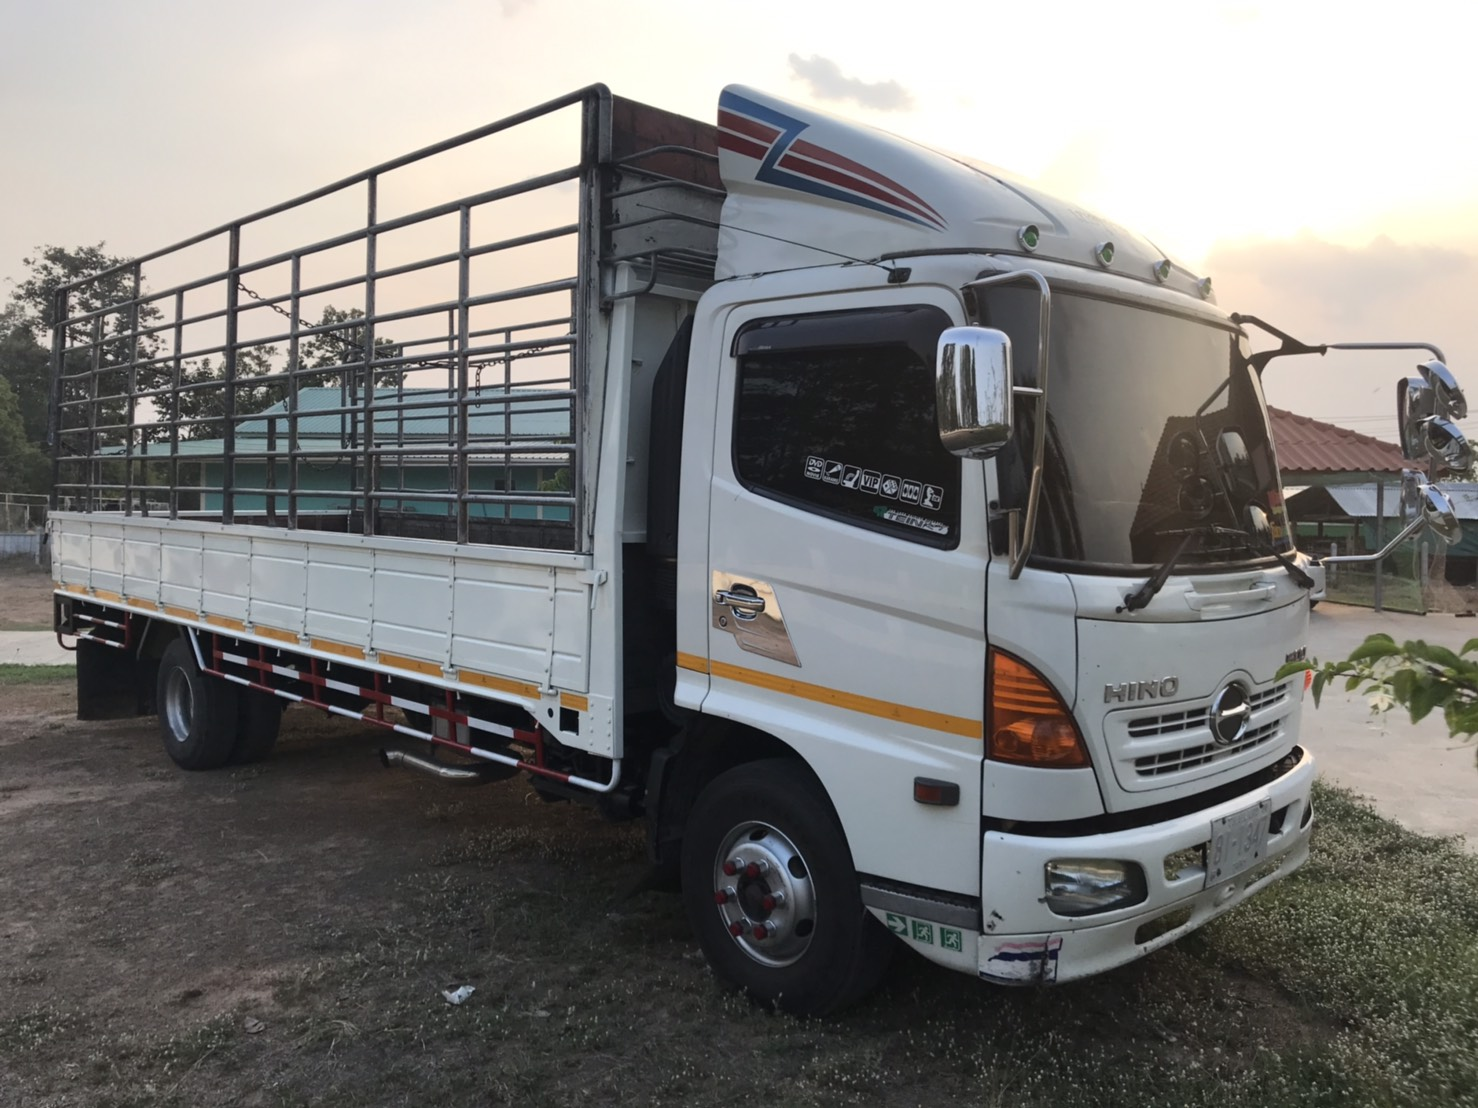truck: (54, 159, 1316, 1004)
